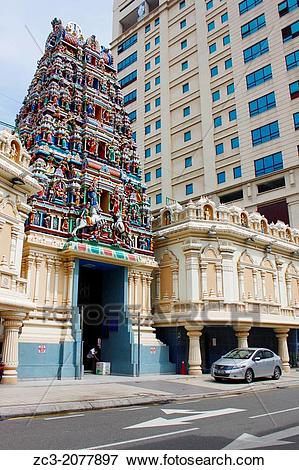Hindu Temple: (6, 16, 295, 369)
